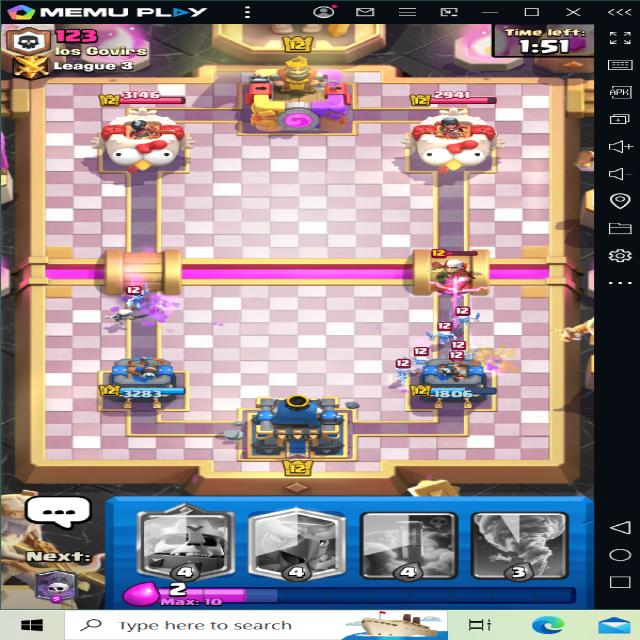magic-archer: (427, 248, 489, 296)
